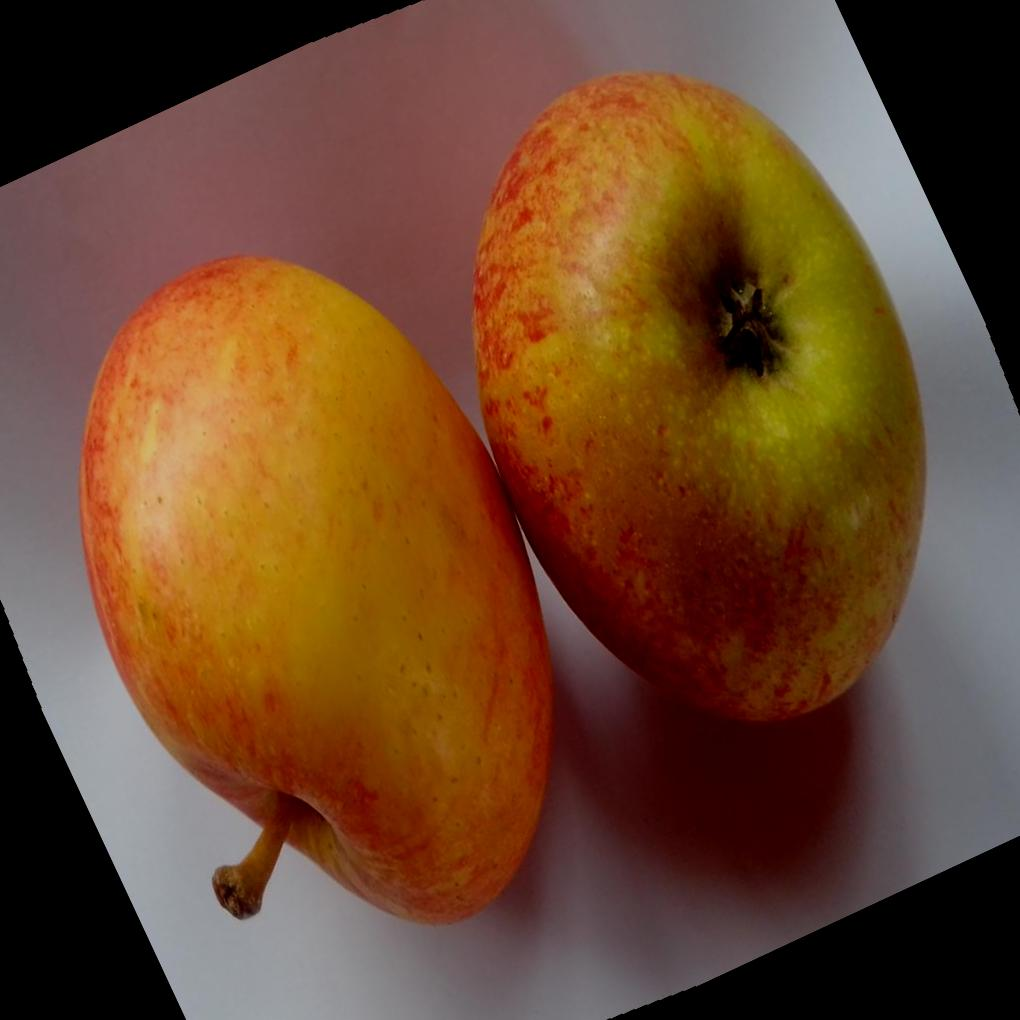FreshGuava: (76, 64, 927, 925)
